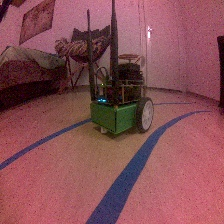rob: (88, 61, 154, 135)
